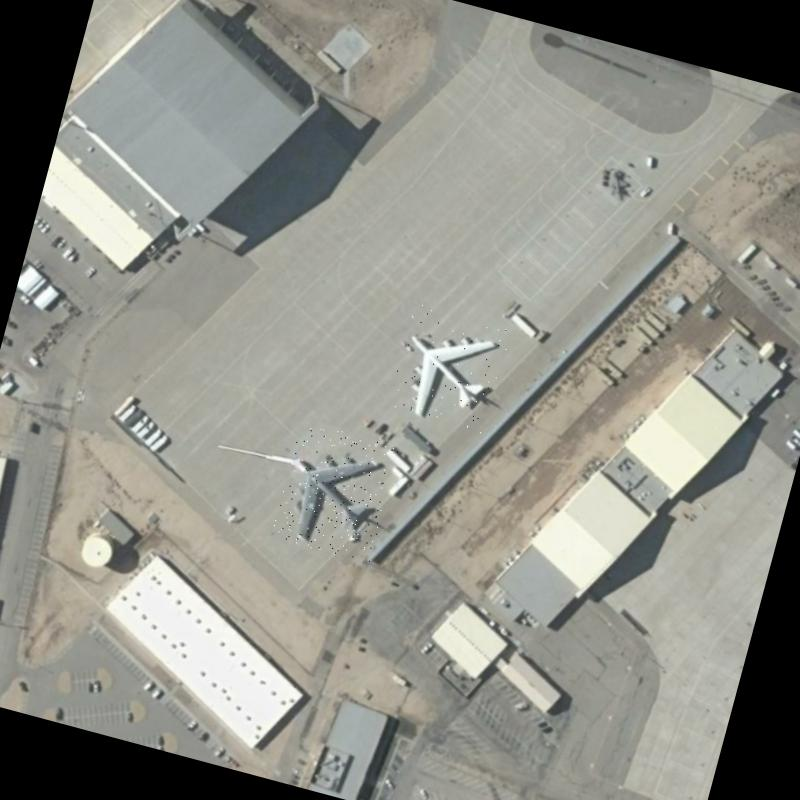A8: (270, 420, 400, 564), (386, 302, 512, 436)
